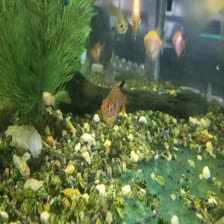Guppy: (106, 6, 124, 32)
Plano: (143, 30, 164, 57), (169, 27, 187, 55), (130, 0, 139, 38)
Transparente: (94, 77, 132, 121)
